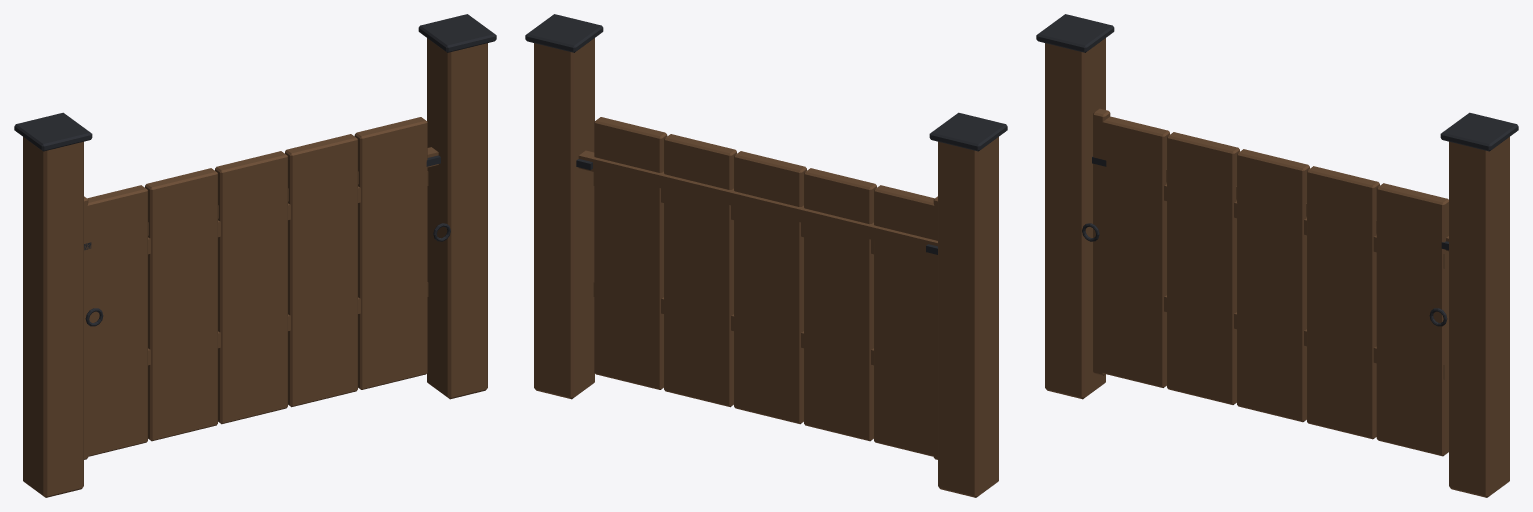
The model's file is SM_Fence_KeepPalisade_03_Gate.fbx.
3 views of the same model, side by side, from view 1: azimuth 30°, elevation 25°; view 2: azimuth 150°, elevation 25°; view 3: azimuth 330°, elevation 25° (orthographic).
Visible parts, largest first — view 1: SM_Fence_KeepPalisade_03_Gate_PostHinge, SM_Fence_KeepPalisade_03_Gate_PostLatch, SM_Fence_KeepPalisade_03_Gate_Leaf_Plank2, SM_Fence_KeepPalisade_03_Gate_Leaf_Plank3, SM_Fence_KeepPalisade_03_Gate_Leaf_Plank1, SM_Fence_KeepPalisade_03_Gate_Leaf_Plank4, SM_Fence_KeepPalisade_03_Gate_Leaf_Plank0, SM_Fence_KeepPalisade_03_Gate_PostLatch_Cap, SM_Fence_KeepPalisade_03_Gate_PostHinge_Cap, SM_Fence_KeepPalisade_03_Gate_Leaf; view 2: SM_Fence_KeepPalisade_03_Gate_PostHinge, SM_Fence_KeepPalisade_03_Gate_PostLatch, SM_Fence_KeepPalisade_03_Gate_Leaf_Plank2, SM_Fence_KeepPalisade_03_Gate_Leaf_Plank4, SM_Fence_KeepPalisade_03_Gate_Leaf_Plank1, SM_Fence_KeepPalisade_03_Gate_Leaf_Plank3, SM_Fence_KeepPalisade_03_Gate_Leaf_Plank0, SM_Fence_KeepPalisade_03_Gate_DropBar, SM_Fence_KeepPalisade_03_Gate_PostLatch_Cap, SM_Fence_KeepPalisade_03_Gate_PostHinge_Cap, SM_Fence_KeepPalisade_03_Gate_Leaf; view 3: SM_Fence_KeepPalisade_03_Gate_PostLatch, SM_Fence_KeepPalisade_03_Gate_Leaf_Plank4, SM_Fence_KeepPalisade_03_Gate_Leaf_Plank2, SM_Fence_KeepPalisade_03_Gate_Leaf_Plank1, SM_Fence_KeepPalisade_03_Gate_Leaf_Plank3, SM_Fence_KeepPalisade_03_Gate_PostHinge, SM_Fence_KeepPalisade_03_Gate_Leaf_Plank0, SM_Fence_KeepPalisade_03_Gate_Leaf, SM_Fence_KeepPalisade_03_Gate_PostHinge_Cap, SM_Fence_KeepPalisade_03_Gate_PostLatch_Cap.
Boxes of the visible parts, left/top/right/bottom form: SM_Fence_KeepPalisade_03_Gate_PostHinge: left=23, top=137, right=83, bottom=497; SM_Fence_KeepPalisade_03_Gate_PostLatch: left=427, top=38, right=487, bottom=399; SM_Fence_KeepPalisade_03_Gate_Leaf_Plank2: left=215, top=151, right=287, bottom=424; SM_Fence_KeepPalisade_03_Gate_Leaf_Plank3: left=285, top=134, right=357, bottom=407; SM_Fence_KeepPalisade_03_Gate_Leaf_Plank1: left=145, top=168, right=217, bottom=441; SM_Fence_KeepPalisade_03_Gate_Leaf_Plank4: left=354, top=117, right=427, bottom=389; SM_Fence_KeepPalisade_03_Gate_Leaf_Plank0: left=84, top=185, right=147, bottom=456; SM_Fence_KeepPalisade_03_Gate_PostLatch_Cap: left=418, top=14, right=496, bottom=52; SM_Fence_KeepPalisade_03_Gate_PostHinge_Cap: left=14, top=112, right=92, bottom=151; SM_Fence_KeepPalisade_03_Gate_Leaf: left=84, top=196, right=88, bottom=459; SM_Fence_KeepPalisade_03_Gate_PostHinge: left=938, top=137, right=998, bottom=497; SM_Fence_KeepPalisade_03_Gate_PostLatch: left=534, top=38, right=594, bottom=399; SM_Fence_KeepPalisade_03_Gate_Leaf_Plank2: left=734, top=151, right=806, bottom=424; SM_Fence_KeepPalisade_03_Gate_Leaf_Plank4: left=594, top=117, right=667, bottom=389; SM_Fence_KeepPalisade_03_Gate_Leaf_Plank1: left=804, top=168, right=876, bottom=441; SM_Fence_KeepPalisade_03_Gate_Leaf_Plank3: left=664, top=134, right=736, bottom=407; SM_Fence_KeepPalisade_03_Gate_Leaf_Plank0: left=874, top=185, right=937, bottom=456; SM_Fence_KeepPalisade_03_Gate_DropBar: left=578, top=150, right=937, bottom=255; SM_Fence_KeepPalisade_03_Gate_PostLatch_Cap: left=525, top=14, right=603, bottom=52; SM_Fence_KeepPalisade_03_Gate_PostHinge_Cap: left=929, top=112, right=1007, bottom=151; SM_Fence_KeepPalisade_03_Gate_Leaf: left=933, top=196, right=937, bottom=459; SM_Fence_KeepPalisade_03_Gate_PostLatch: left=1449, top=137, right=1509, bottom=497; SM_Fence_KeepPalisade_03_Gate_Leaf_Plank4: left=1376, top=183, right=1448, bottom=456; SM_Fence_KeepPalisade_03_Gate_Leaf_Plank2: left=1237, top=149, right=1309, bottom=422; SM_Fence_KeepPalisade_03_Gate_Leaf_Plank1: left=1167, top=132, right=1239, bottom=404; SM_Fence_KeepPalisade_03_Gate_Leaf_Plank3: left=1307, top=166, right=1379, bottom=439; SM_Fence_KeepPalisade_03_Gate_PostHinge: left=1045, top=38, right=1105, bottom=399; SM_Fence_KeepPalisade_03_Gate_Leaf_Plank0: left=1097, top=116, right=1169, bottom=387; SM_Fence_KeepPalisade_03_Gate_Leaf: left=1093, top=108, right=1110, bottom=375; SM_Fence_KeepPalisade_03_Gate_PostHinge_Cap: left=1036, top=14, right=1114, bottom=52; SM_Fence_KeepPalisade_03_Gate_PostLatch_Cap: left=1440, top=112, right=1518, bottom=151.
Size of the model in its own units: 2.25 by 1.69 by 0.25.
